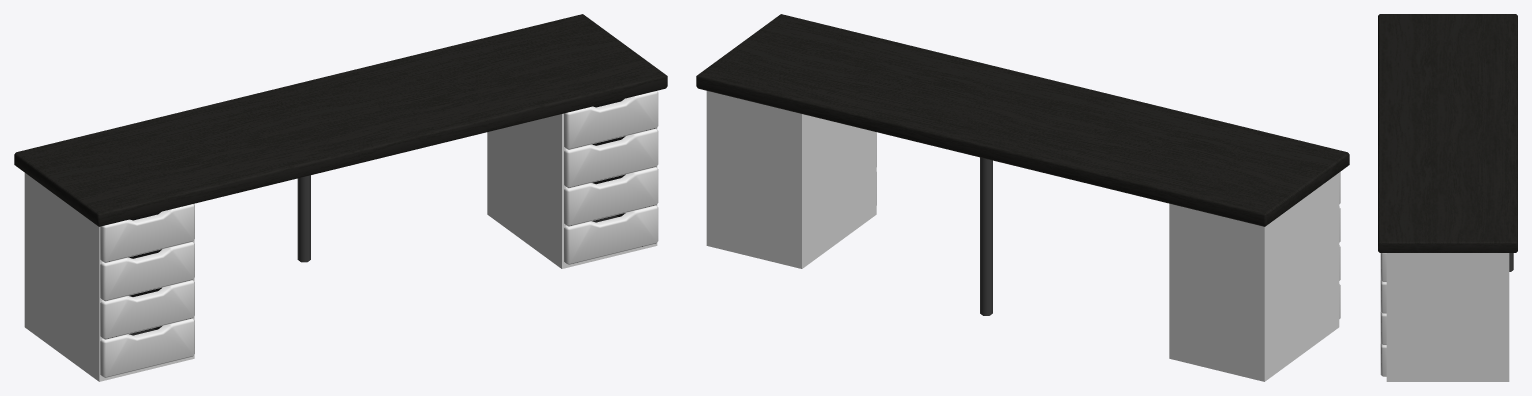
The model's file is work_table_004.fbx.
3 views of the same model, side by side, from view 1: azimuth 30°, elevation 25°; view 2: azimuth 150°, elevation 25°; view 3: azimuth 270°, elevation 25° (orthographic). The views are drawn at different scales.
Parts seen in each view (by area): view 1: work_table_004; view 2: work_table_004; view 3: work_table_004.
Boxes of the visible parts, x1,y1,x2,y2 form: work_table_004: (14,14,667,381); work_table_004: (696,14,1349,381); work_table_004: (1378,14,1517,381).
Size of the model in its own units: 315 by 81.5 by 91.5.
